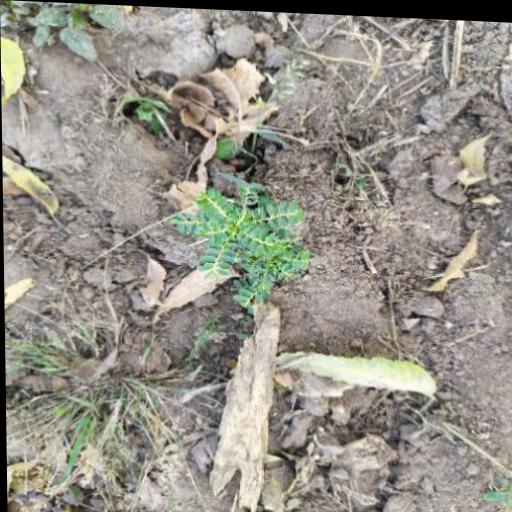weed: (5, 338, 205, 512), (166, 175, 313, 327)
